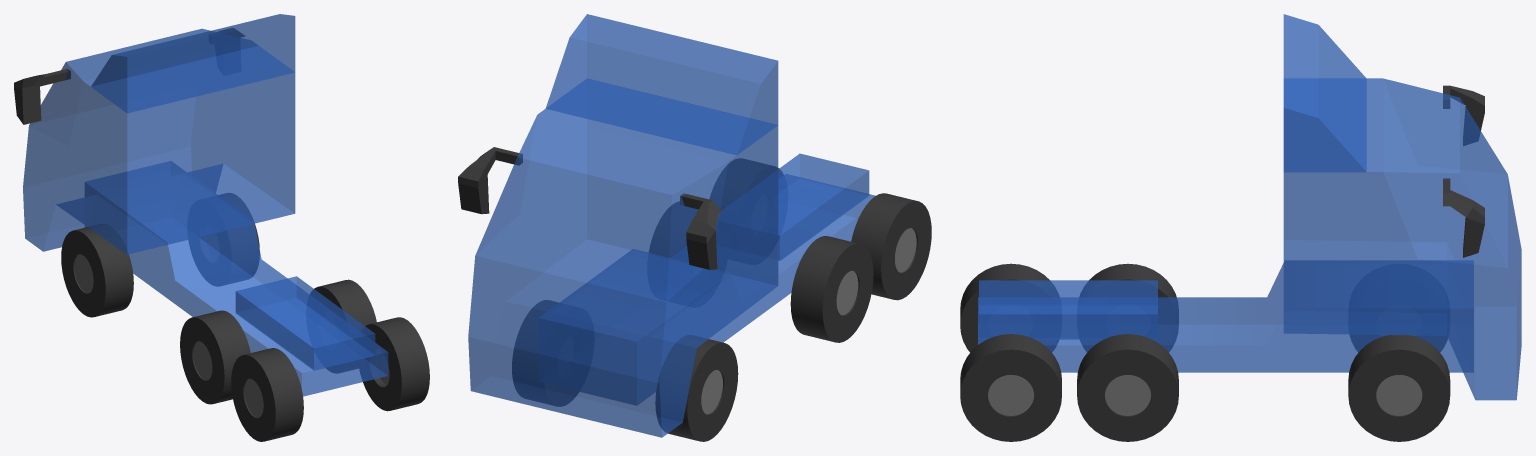
File: G7Trailer-head.obj
3 views of the same model, side by side, from view 1: azimuth 30°, elevation 25°; view 2: azimuth 150°, elevation 25°; view 3: azimuth 270°, elevation 25° (orthographic). The views are drawn at different scales.
Parts seen in each view (by area): view 1: 车头, Cube.1, 车顶, Tube, Tube_2, 重, Tube_1, 后视镜, Cylinder.1, Cylinder.1_2, Cylinder.1_1; view 2: 车头, Cube.1, 车顶, Tube_2, Tube_1, 重, Tube, 后视镜, Cylinder.1_1, Cylinder.1, Cylinder.1_2; view 3: 车头, Cube.1, 车顶, Tube_1, Tube, 重, Tube_2, 后视镜, Cylinder.1_2, Cylinder.1, Cylinder.1_1.
Part boxes in pixels (x1,y1,x2,y2): 车头: (23, 28, 295, 254); Cube.1: (85, 161, 388, 396); 车顶: (91, 14, 295, 113); Tube: (231, 317, 429, 441); Tube_2: (61, 193, 259, 317); 重: (235, 276, 375, 370); Tube_1: (180, 279, 376, 404); 后视镜: (14, 28, 244, 124); Cylinder.1: (244, 349, 389, 417); Cylinder.1_2: (74, 233, 219, 293); Cylinder.1_1: (193, 341, 212, 380); 车头: (468, 78, 778, 437); Cube.1: (539, 174, 875, 405); 车顶: (545, 14, 778, 155); Tube_2: (512, 300, 738, 441); Tube_1: (649, 201, 873, 342); 重: (716, 153, 869, 260); Tube: (710, 158, 931, 300); 后视镜: (458, 147, 721, 269); Cylinder.1_1: (836, 270, 858, 315); Cylinder.1: (895, 228, 916, 272); Cylinder.1_2: (701, 370, 722, 414); 车头: (1283, 78, 1521, 400); Cube.1: (978, 260, 1473, 372); 车顶: (1283, 14, 1366, 172); Tube_1: (1077, 263, 1178, 441); Tube: (960, 263, 1061, 441); 重: (979, 280, 1157, 339); Tube_2: (1348, 334, 1450, 441); 后视镜: (1443, 85, 1484, 257); Cylinder.1_2: (1376, 335, 1422, 415); Cylinder.1: (988, 375, 1034, 415); Cylinder.1_1: (1105, 375, 1150, 415).
Size of the model in its own units: 62.07 by 80.59 by 121.
